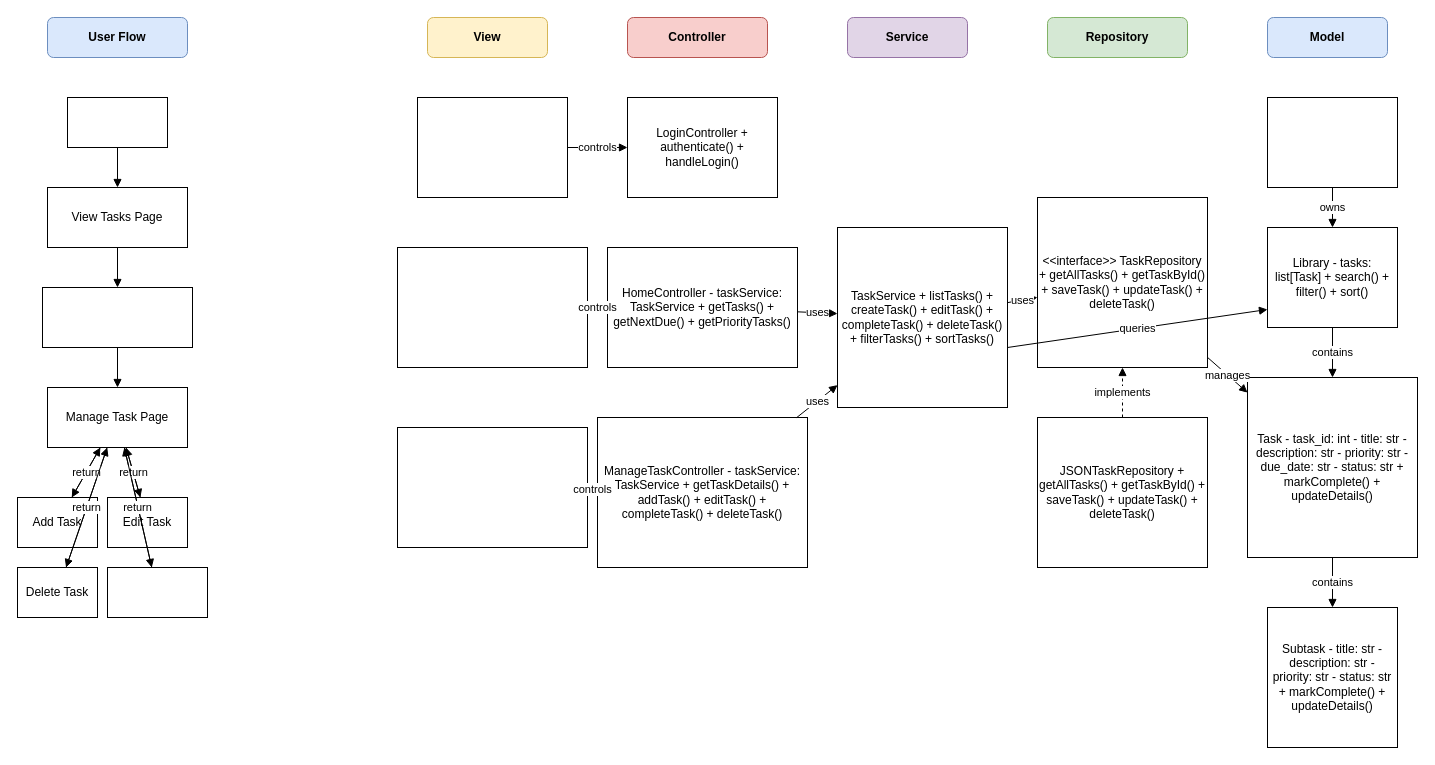
The diagram is 1435 pixels wide and 765 high, and some of its shapes have lost their labels. The shapes that lost their labels are listed below. From the top down, each one's centre as x and y in pixels, then its label:
At point (117, 122): "User".
At point (1332, 142): "User - name: str + getName() + setName()".
At point (492, 147): "LoginView + showLoginForm() + getUsername() + getPassword()".
At point (117, 317): "Manage Tasks Button".
At point (492, 307): "HomeView + displayTasks(tasks) + showNextDue(task) + showPriorityTasks(tasks)".
At point (492, 487): "ManageTaskView + showTaskForm(task) + getTaskInput() + showSuccessMessage()".
At point (157, 592): "Complete Task".
